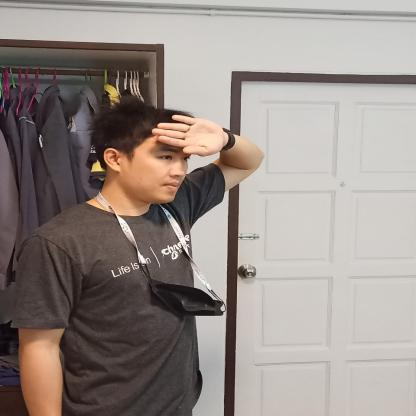Sick: (100, 83, 332, 211)
